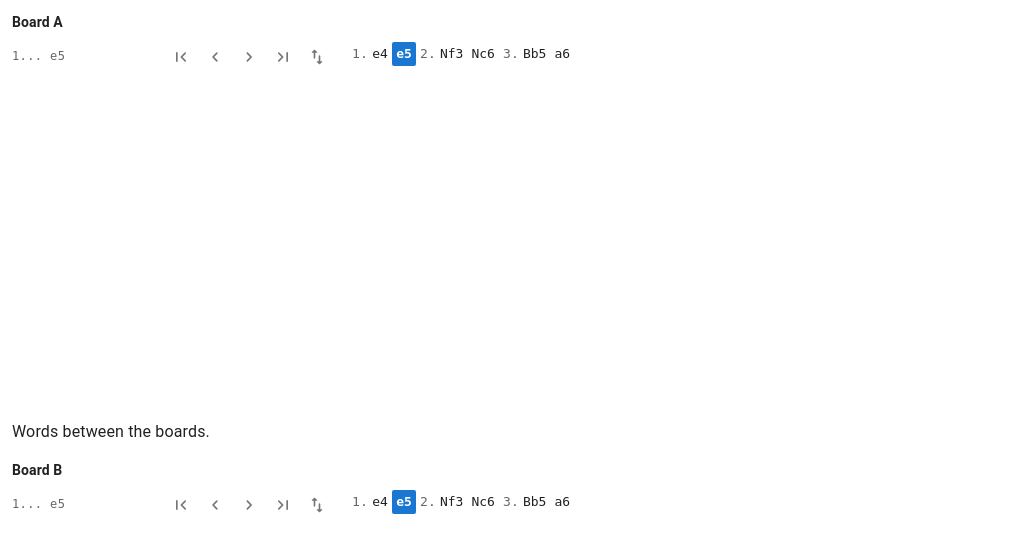
Test: useBoardKeys — the keyboard on a page of boards (CTA-126) › follows the focus: tabbing into a board's moves makes it the one
Click the element "Board A" at (293, 43), box [12,14,574,72]
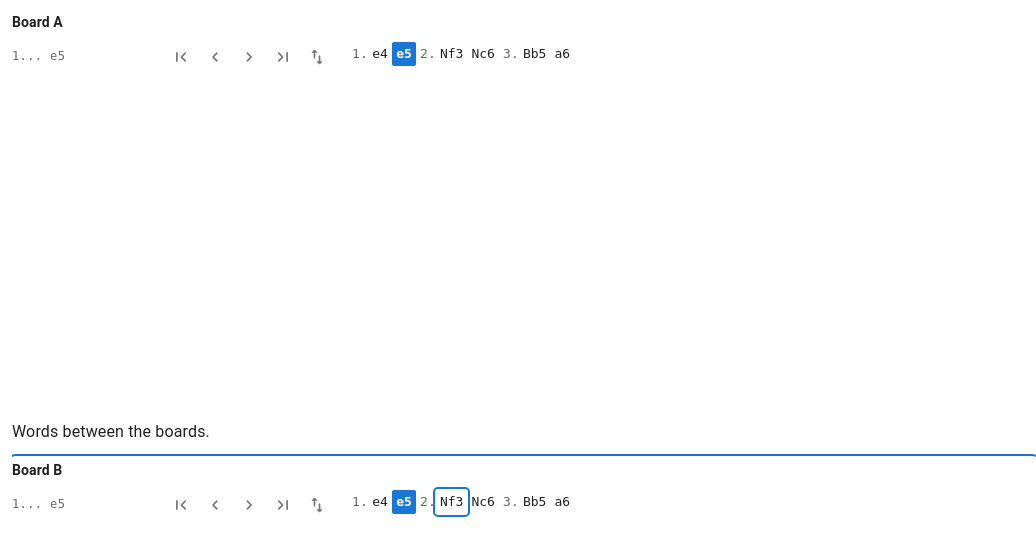
Press Arrowright
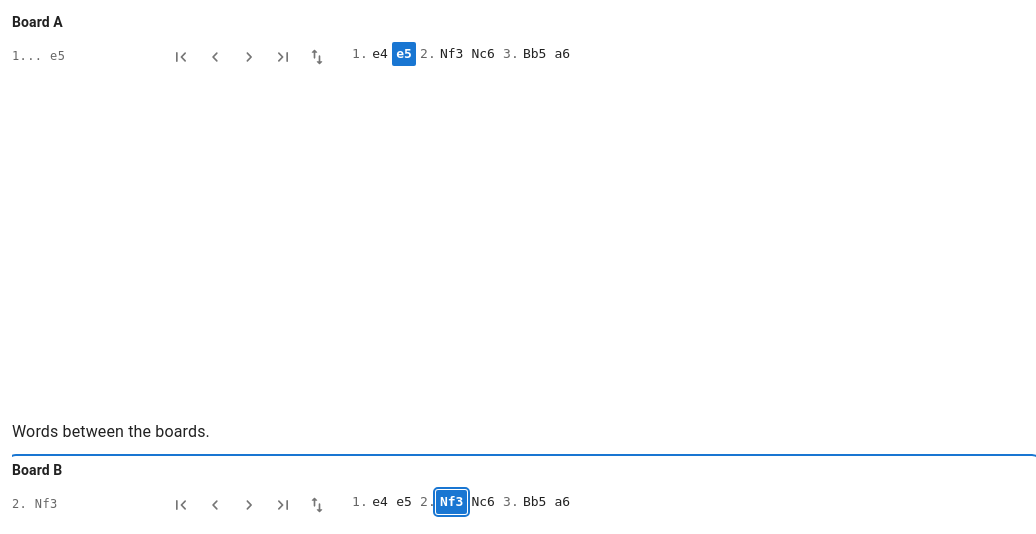
Expected: the text with test id "-on-screen" reads "1... e5", [12,49,65,63]
Expected: the text with test id "-on-screen" reads "2. Nf3", [12,497,58,511]
